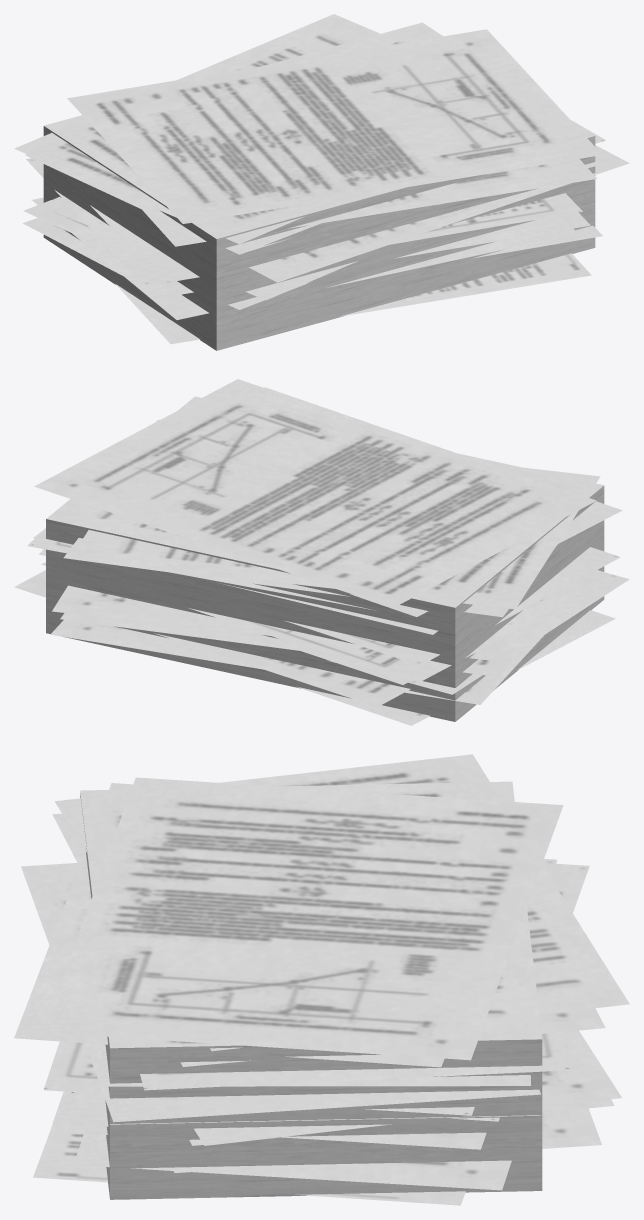
Rendered from SM_prop_Laboratory_Paper_Pile_04.fbx.
The picture shows the model from 3 angles, top to bottom: view 1: azimuth 30°, elevation 25°; view 2: azimuth 150°, elevation 25°; view 3: azimuth 270°, elevation 25°; orthographic projection. The views are drawn at different scales.
Parts seen in each view (by area): view 1: SM_prop_Laboratory_Paper_Pile_04; view 2: SM_prop_Laboratory_Paper_Pile_04; view 3: SM_prop_Laboratory_Paper_Pile_04.
Part boxes in pixels (x1,y1,x2,y2): SM_prop_Laboratory_Paper_Pile_04: (14, 14, 629, 350); SM_prop_Laboratory_Paper_Pile_04: (14, 379, 629, 725); SM_prop_Laboratory_Paper_Pile_04: (14, 754, 629, 1205).
Bounding box in the file's own units: 42.99 × 9.77 × 35.
1 material, 1 textured.
